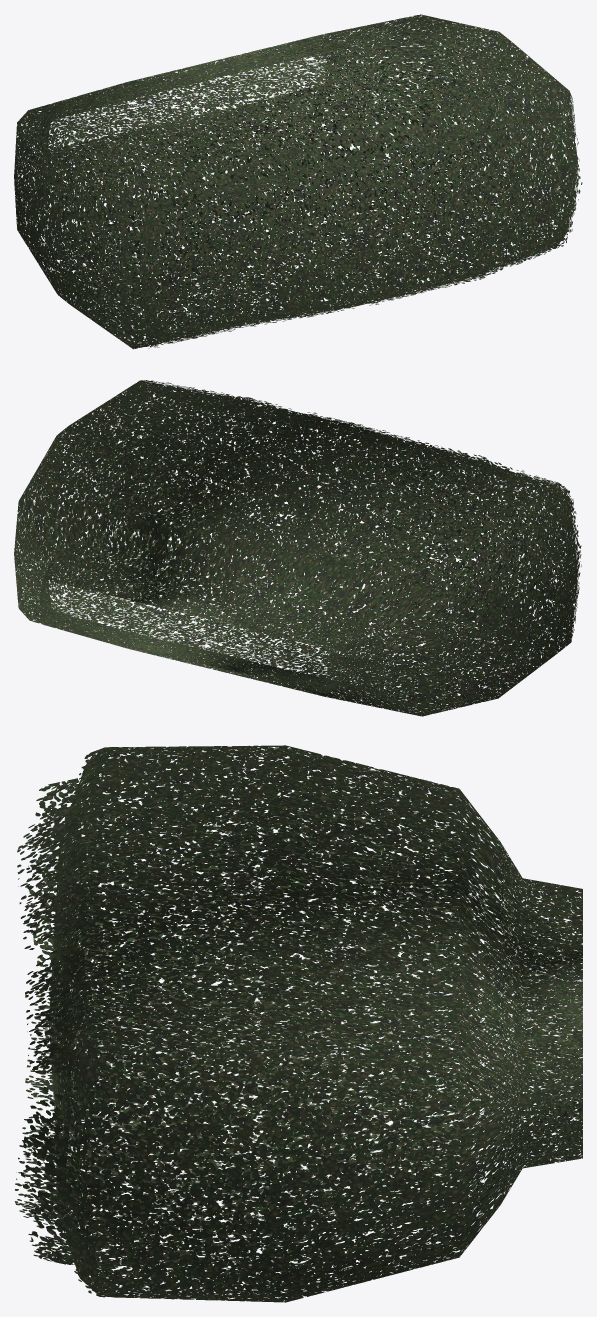
The model's file is nt_2020_foliage_hedge_boxy01_LOD1.obj.
3 renders of one model, top to bottom at view 1: azimuth 30°, elevation 25°; view 2: azimuth 150°, elevation 25°; view 3: azimuth 270°, elevation 25°, orthographic. The views are drawn at different scales.
Visible parts, largest first — view 1: mtl_p6_foliage_hedge2, mtl_p6_foliage_hedge_edge; view 2: mtl_p6_foliage_hedge2, mtl_p6_foliage_hedge_edge; view 3: mtl_p6_foliage_hedge2, mtl_p6_foliage_hedge_edge.
Part boxes in pixels (left/top/right/bottom): mtl_p6_foliage_hedge2: left=14, top=14, right=577, bottom=349; mtl_p6_foliage_hedge_edge: left=120, top=81, right=582, bottom=348; mtl_p6_foliage_hedge2: left=14, top=380, right=577, bottom=716; mtl_p6_foliage_hedge_edge: left=126, top=380, right=581, bottom=647; mtl_p6_foliage_hedge2: left=49, top=745, right=582, bottom=1302; mtl_p6_foliage_hedge_edge: left=15, top=747, right=105, bottom=1296.
Bounding box in the file's own units: 339 × 121 × 245.
